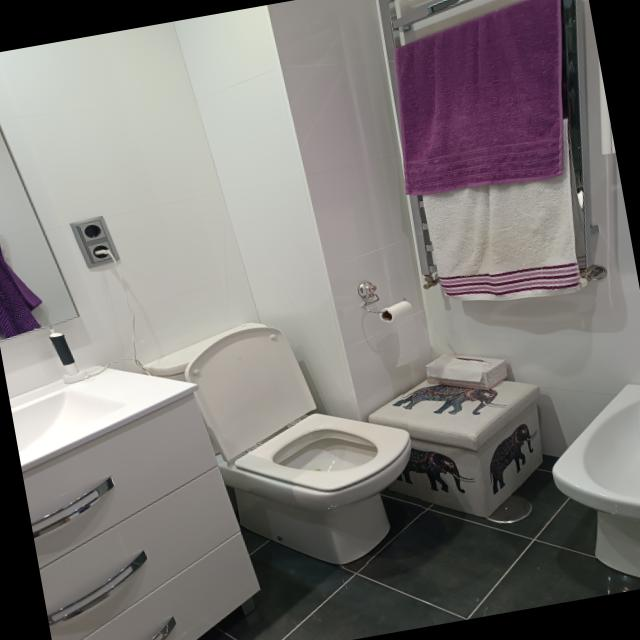cabinet: (22, 403, 260, 640)
table: (144, 323, 412, 567)
wardrobe: (9, 366, 198, 473)
